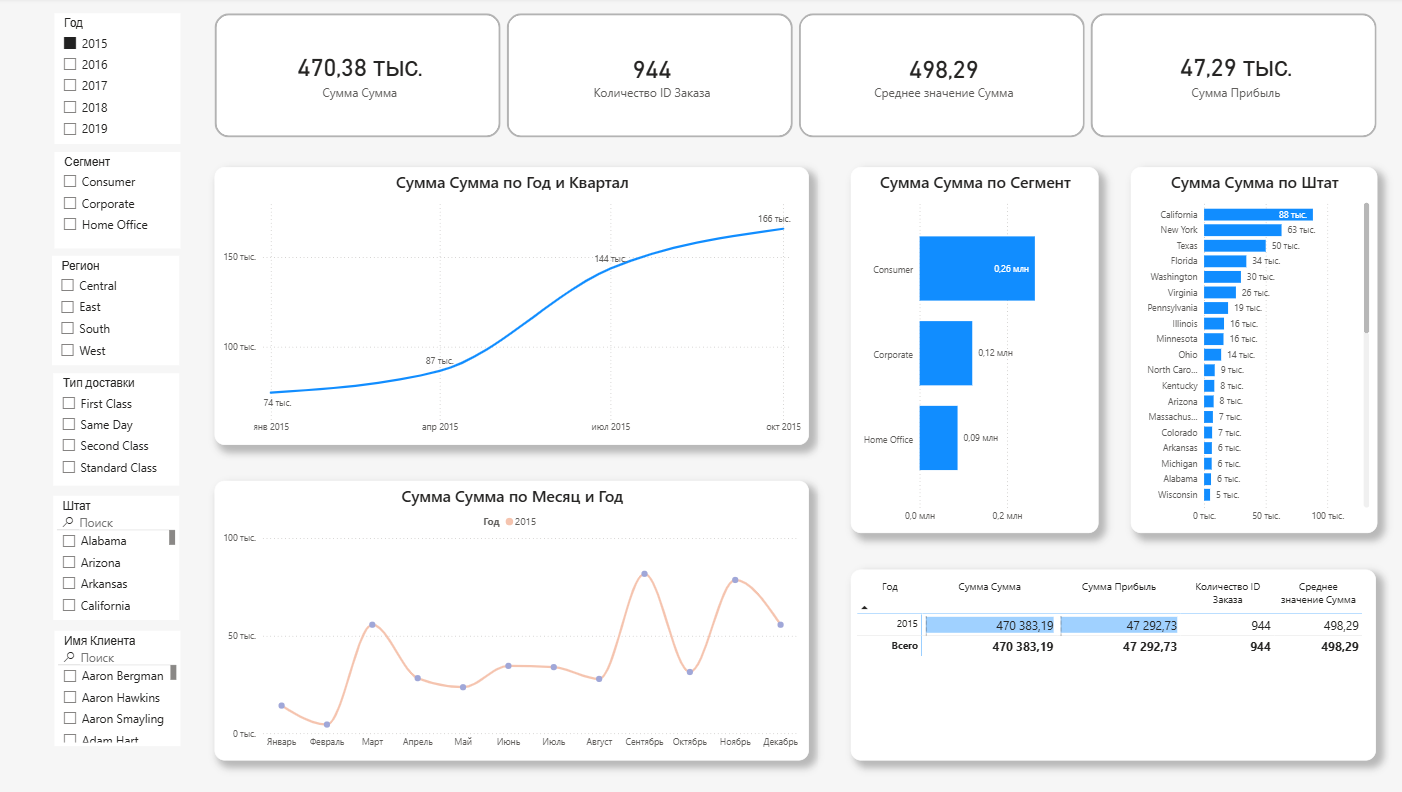

Layout of this report page (visuals, bound fields, positions):
{"tool":"powerbi","page":{"name":"Страница 1","canvas":[1920,1080],"ordinal":0},"visuals":[{"type":"cardVisual","fields":{"Data":["Sum(Продажи.Сумма)","CountNonNull(Продажи.ID Заказа)","Avg(Продажи.Сумма)","Sum(Продажи.Прибыль)"]},"box":[294,22,1574,168],"z":0},{"type":"clusteredBarChart","fields":{"Category":["Продажи.Сегмент"],"Y":["Sum(Продажи.Сумма)"]},"box":[1155.4,230.8,335.4,495.4],"z":1000},{"type":"lineChart","fields":{"Category":["Продажи.Дата покупки.Изменение.Иерархия дат.Месяц"],"Y":["Sum(Продажи.Сумма)"],"Series":["Продажи.Дата покупки.Изменение.Иерархия дат.Год"]},"box":[294,654,804,378],"z":2000},{"type":"lineChart","fields":{"Category":["Продажи.Дата покупки.Изменение.Иерархия дат.Год","Продажи.Дата покупки.Изменение.Иерархия дат.Квартал","Продажи.Дата покупки.Изменение.Иерархия дат.Месяц","Продажи.Дата покупки.Изменение.Иерархия дат.День"],"Y":["Sum(Продажи.Сумма)"]},"box":[294,230,804,376],"z":3000},{"type":"slicer","fields":{"Values":["Продажи.Регион"]},"box":[74,349.2,172,148],"z":4000},{"type":"slicer","fields":{"Values":["Продажи.Сегмент"]},"box":[78,209.2,170,130],"z":5000},{"type":"slicer","fields":{"Values":["Продажи.Штат"]},"box":[76,675.2,170,168],"z":6000},{"type":"slicer","fields":{"Values":["Продажи.Тип доставки"]},"box":[76,509.2,170,152],"z":7000},{"type":"slicer","fields":{"Values":["Продажи.Имя Клиента"]},"box":[78,857.2,170,156],"z":8000},{"type":"clusteredBarChart","fields":{"Category":["Продажи.Штат"],"Y":["Sum(Продажи.Сумма)"]},"box":[1533.8,230.8,333.8,495.4],"z":9000},{"type":"pivotTable","fields":{"Rows":["Продажи.Дата доставки.Изменение.Иерархия дат.Год"],"Values":["Sum(Продажи.Сумма)","Sum(Продажи.Прибыль)","Count(Продажи.ID Заказа)","Avg(Продажи.Сумма)"]},"box":[1155.4,773.8,710.8,258.5],"z":10000},{"type":"slicer","fields":{"Values":["Продажи.Дата доставки.Изменение.Иерархия дат.Год"]},"box":[77.8,22.2,170.4,176.5],"z":11000}]}

Visuals, with their boxes in screenshot pixels (x1, y1, x2, y2), scaled from the page's 1920x1080 canvas onto the 1402x792 screenshot:
cardVisual - Sum(Продажи.Сумма) x CountNonNull(Продажи.ID Заказа): left=215, top=16, right=1364, bottom=139
clusteredBarChart - Продажи.Сегмент x Sum(Продажи.Сумма): left=844, top=169, right=1089, bottom=533
lineChart - Продажи.Дата покупки.Изменение.Иерархия дат.Месяц x Sum(Продажи.Сумма): left=215, top=480, right=802, bottom=757
lineChart - Продажи.Дата покупки.Изменение.Иерархия дат.Год x Продажи.Дата покупки.Изменение.Иерархия дат.Квартал: left=215, top=169, right=802, bottom=444
slicer - Продажи.Регион: left=54, top=256, right=180, bottom=365
slicer - Продажи.Сегмент: left=57, top=153, right=181, bottom=249
slicer - Продажи.Штат: left=55, top=495, right=180, bottom=618
slicer - Продажи.Тип доставки: left=55, top=373, right=180, bottom=485
slicer - Продажи.Имя Клиента: left=57, top=629, right=181, bottom=743
clusteredBarChart - Продажи.Штат x Sum(Продажи.Сумма): left=1120, top=169, right=1364, bottom=533
pivotTable - Продажи.Дата доставки.Изменение.Иерархия дат.Год x Sum(Продажи.Сумма): left=844, top=567, right=1363, bottom=757
slicer - Продажи.Дата доставки.Изменение.Иерархия дат.Год: left=57, top=16, right=181, bottom=146
